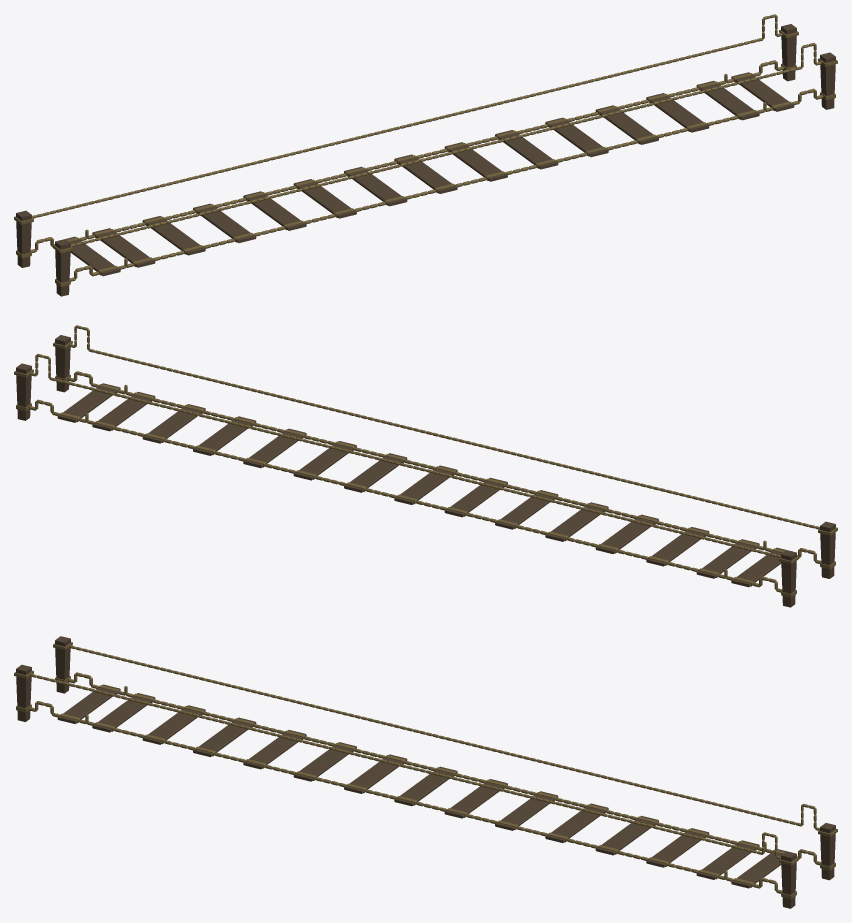
Rendered from suspensionbridge.fbx.
3 views of the same model, one above another, from view 1: azimuth 30°, elevation 25°; view 2: azimuth 150°, elevation 25°; view 3: azimuth 330°, elevation 25° (orthographic).
Visible parts, largest first — view 1: bridge_1_9, bridge_1_15, string3_1, bridge_1, bridge_1_4, bridge_1_10, bridge_1_2, bridge_1_3, bridge_1_5, bridge_1_6, bridge_1_12, string3 (+9 smaller); view 2: bridge_1_9, bridge_1_15, string3, bridge_1, bridge_1_4, bridge_1_10, bridge_1_2, bridge_1_3, bridge_1_5, bridge_1_6, bridge_1_12, string3_1 (+9 smaller); view 3: string3_1, string3, bridge_1_4, bridge_1_8, bridge_1_13, bridge_1_3, bridge_1_9, bridge_1_15, bridge_1_2, bridge_1_5, bridge_1_12, bridge_1_7 (+9 smaller).
Part boxes in pixels (x1,y1,x2,y2): bridge_1_9: [344, 166, 407, 206]; bridge_1_15: [92, 228, 155, 267]; string3_1: [32, 38, 763, 218]; bridge_1: [731, 72, 794, 111]; bridge_1_4: [595, 105, 658, 144]; bridge_1_10: [293, 179, 356, 218]; bridge_1_2: [696, 81, 759, 120]; bridge_1_3: [646, 93, 709, 132]; bridge_1_5: [545, 117, 608, 157]; bridge_1_6: [495, 130, 558, 169]; bridge_1_12: [193, 203, 256, 243]; string3: [71, 66, 802, 246]; bridge_1_9: [444, 477, 507, 517]; bridge_1_15: [696, 539, 759, 578]; string3: [88, 349, 819, 529]; bridge_1: [57, 383, 120, 422]; bridge_1_4: [193, 416, 256, 455]; bridge_1_10: [495, 490, 558, 529]; bridge_1_2: [92, 392, 155, 431]; bridge_1_3: [142, 404, 205, 443]; bridge_1_5: [243, 428, 306, 468]; bridge_1_6: [293, 441, 356, 480]; bridge_1_12: [595, 514, 658, 554]; string3_1: [49, 377, 780, 557]; string3_1: [69, 645, 802, 826]; string3: [30, 674, 763, 854]; bridge_1_4: [595, 815, 658, 855]; bridge_1_8: [394, 766, 457, 806]; bridge_1_13: [142, 705, 205, 744]; bridge_1_3: [646, 828, 709, 867]; bridge_1_9: [344, 754, 407, 793]; bridge_1_15: [92, 693, 155, 732]; bridge_1_2: [696, 840, 759, 879]; bridge_1_5: [545, 803, 608, 842]; bridge_1_12: [193, 717, 256, 756]; bridge_1_7: [444, 779, 507, 818].
Bounding box in the file's own units: 2997 × 250 × 309.
